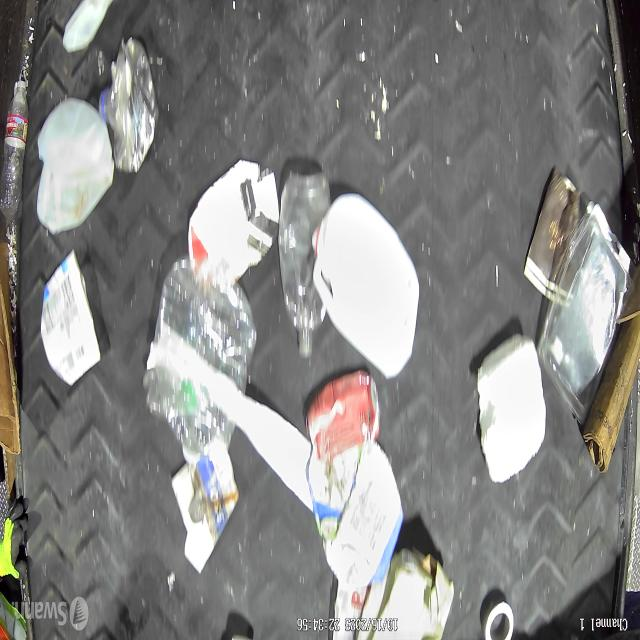can: (304, 371, 381, 463)
milk_jug: (310, 194, 420, 382), (35, 96, 115, 234)
plastic_bottle: (142, 256, 258, 472), (278, 175, 324, 363), (99, 37, 159, 176)
